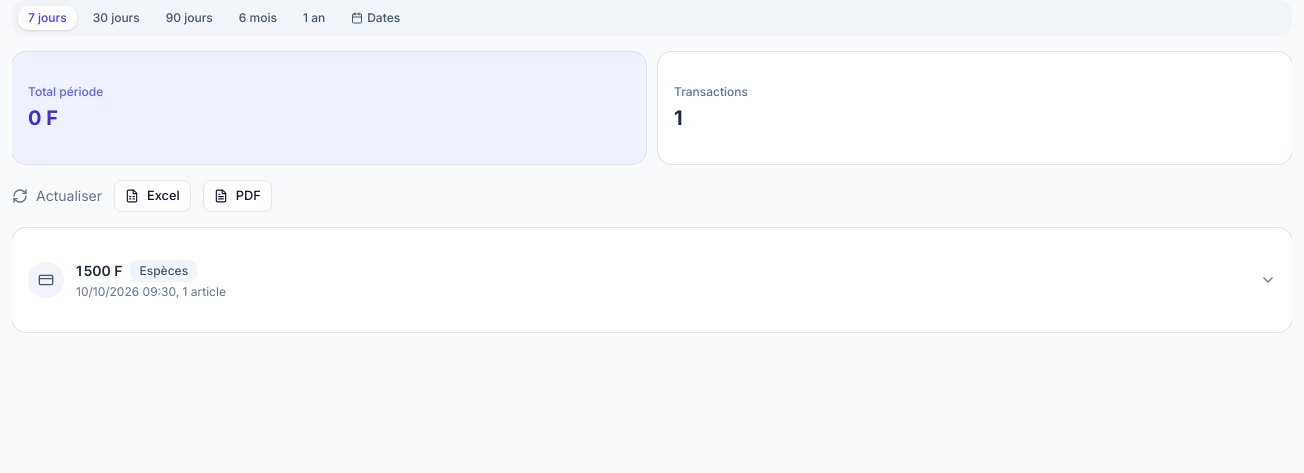
SalesHistory › propose le retour d’article sur une vente au comptant
Click the button "1 500 F Espèces 10/10/2026 09:30, 1 article": (46, 280) [12,244,1292,316]
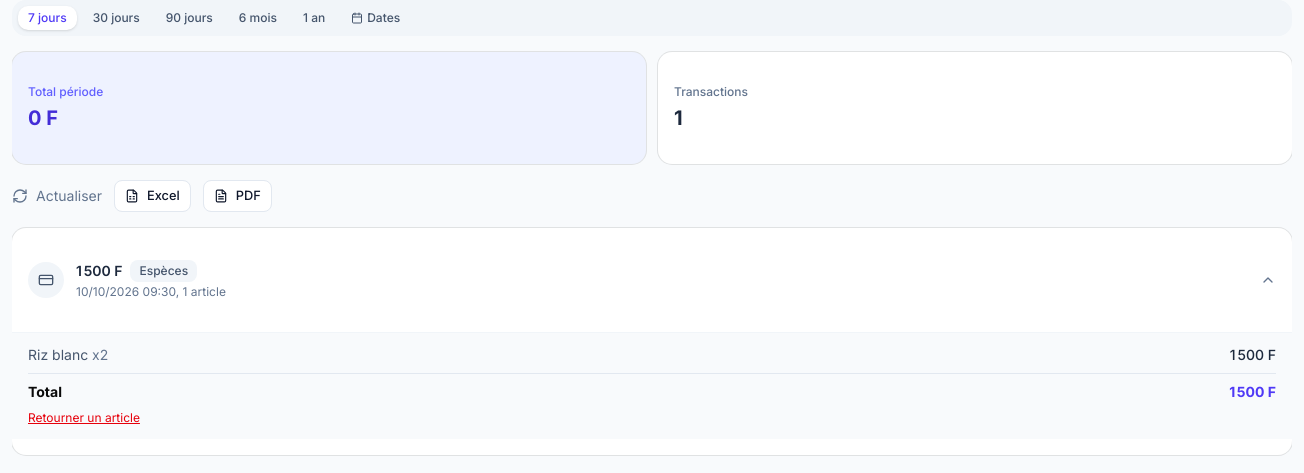
Expected: the button "Retourner un article" is shown, [28,410,140,426]
